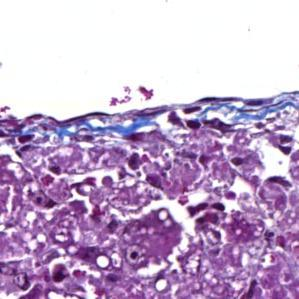inflammation: (177, 185, 226, 233)
